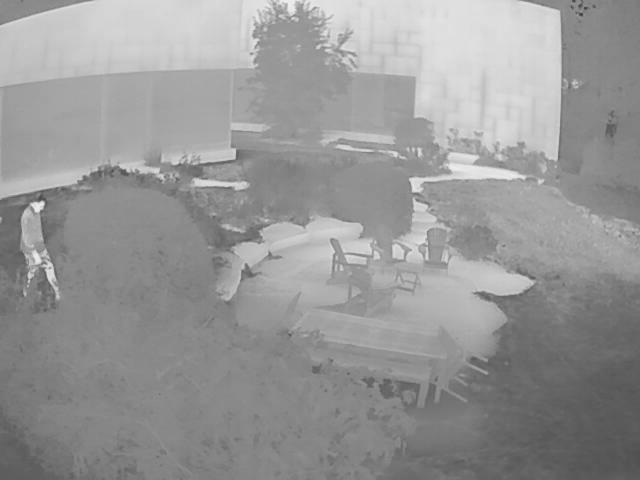person: (20, 192, 67, 316)
